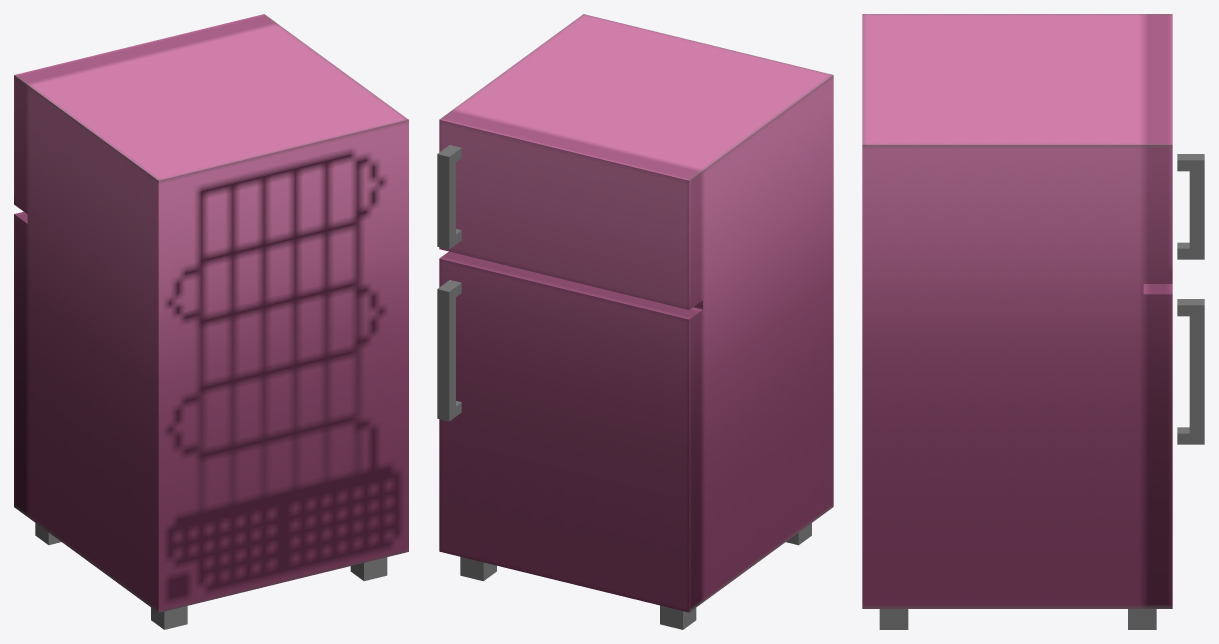
Rendered from Fridge.fbx.
The picture shows the model from 3 angles, left to right: view 1: azimuth 30°, elevation 25°; view 2: azimuth 150°, elevation 25°; view 3: azimuth 270°, elevation 25°; orthographic projection. The views are drawn at different scales.
Visible parts, largest first — view 1: Fridge; view 2: Fridge; view 3: Fridge.
Boxes of the visible parts, x1=… form: Fridge: x1=14, y1=14, x2=408, y2=629; Fridge: x1=437, y1=14, x2=833, y2=629; Fridge: x1=862, y1=14, x2=1204, y2=629.
Bounding box in the file's own units: 200 × 350 × 220.
